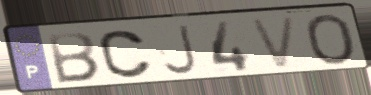4: (208, 19, 256, 74)
B: (45, 31, 102, 86)
C: (96, 28, 155, 80)
J: (161, 22, 201, 77)
O: (303, 12, 359, 67)
V: (247, 14, 299, 72)
